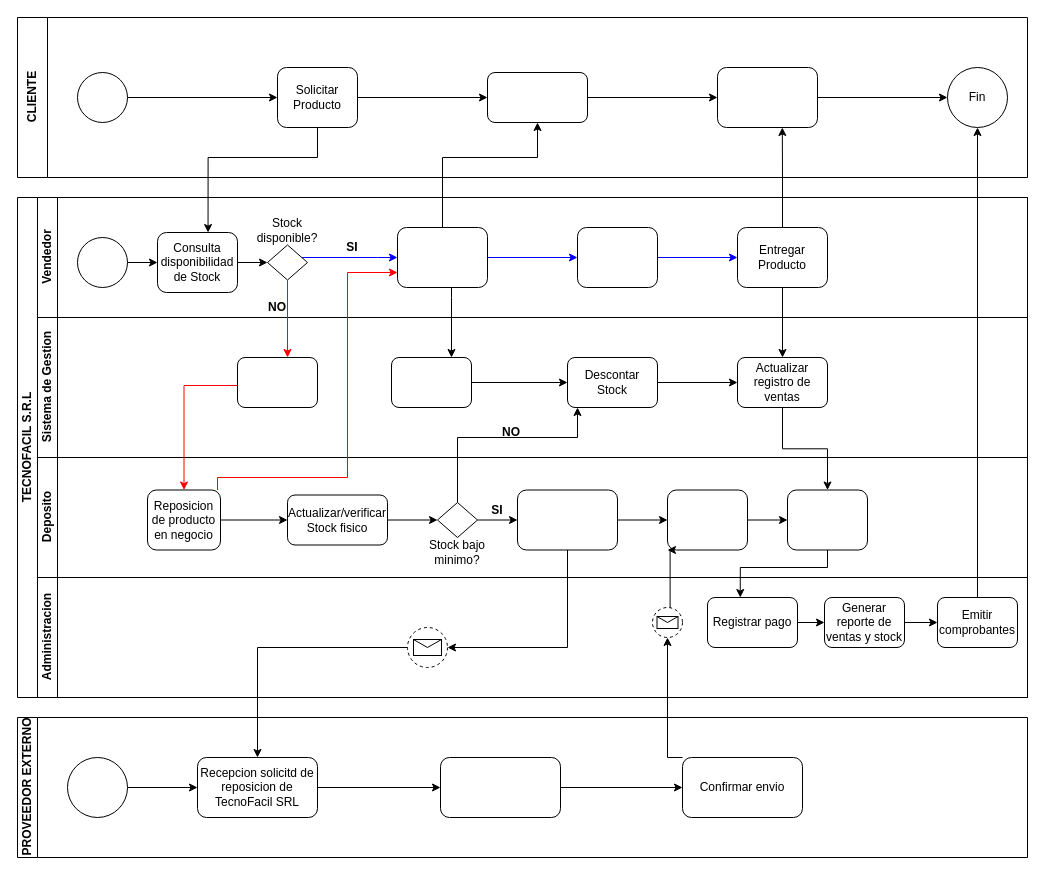
The diagram is 1045 pixels wide and 875 high, and some of its shapes have lost their labels. Here are the shapes that lost their labels. From the top down, the centre of each, then its label:
At (537,97): "Realizar Pago".
At (767,97): "Recibir producto y comprobante".
At (442,257): "Registrar Venta".
At (617,257): "Preparar pedido".
At (277,382): "Informar falta de Stock".
At (431,382): "Validar datos de Venta".
At (567,519): "Generar solicitud de reposicion al proveedor".
At (707,519): "Recepcion de mercaderia".
At (827,519): "Actualizar Stock".
At (500,787): "Preparacion y envio de mercaderia".
